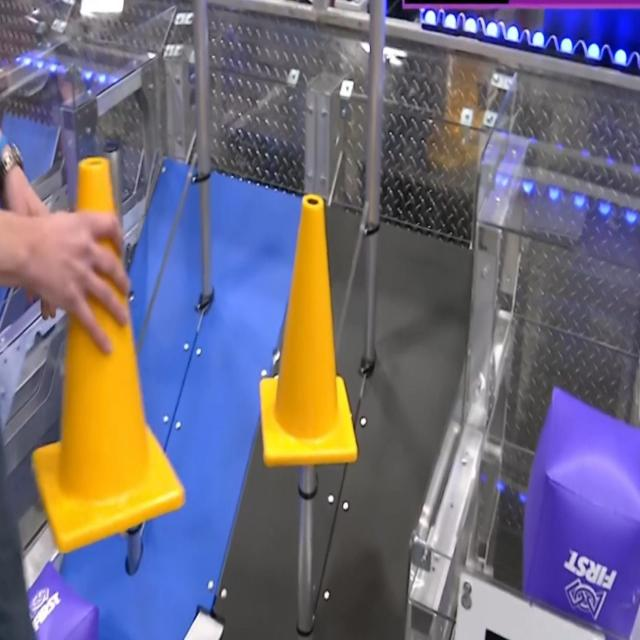frc_cone: (30, 157, 186, 556), (258, 195, 358, 464)
frc_cube: (523, 390, 640, 639), (24, 558, 98, 640)
